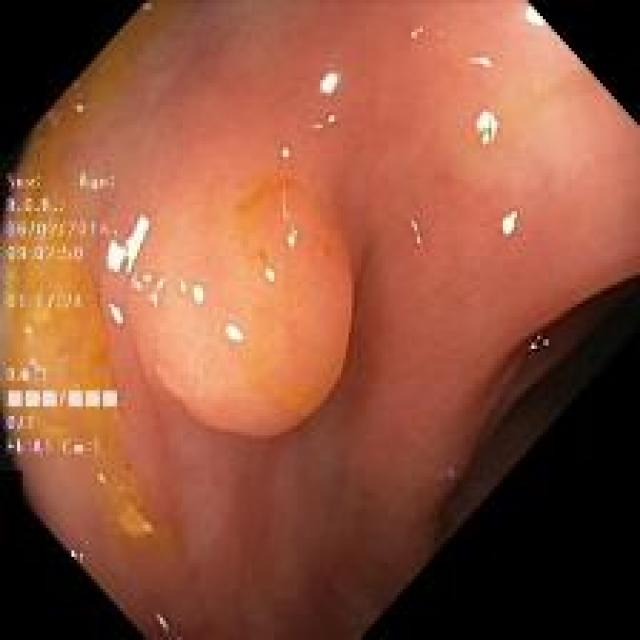Polyps: (100, 151, 354, 438)
